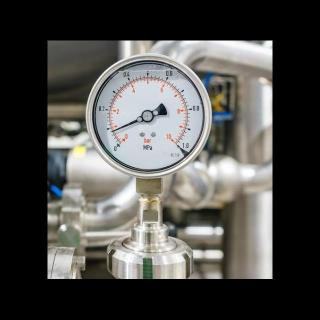gauge: (85, 54, 213, 178), (165, 132, 187, 154), (110, 133, 130, 155), (142, 111, 152, 121), (109, 129, 114, 134)
